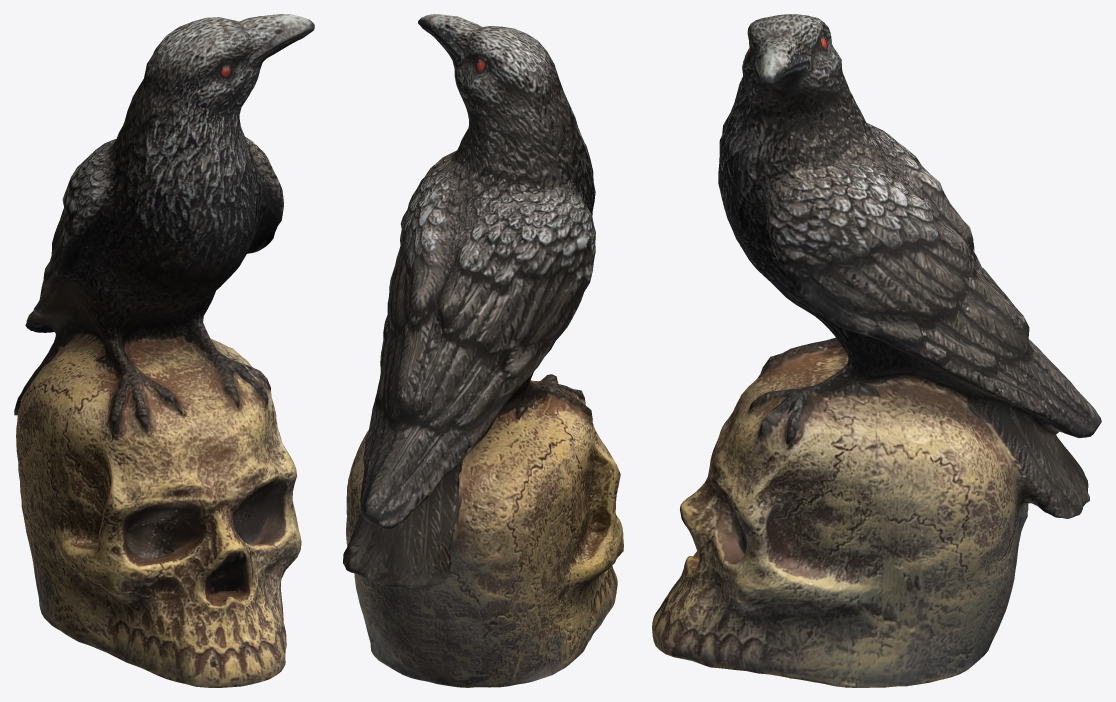
File: MessengerRaven.glb
3 renders of one model, left to right at view 1: azimuth 30°, elevation 25°; view 2: azimuth 150°, elevation 25°; view 3: azimuth 270°, elevation 25°, orthographic. The views are drawn at different scales.
Visible parts, largest first — view 1: geo1; view 2: geo1; view 3: geo1.
Boxes of the visible parts, x1,y1,x2,y2 form: geo1: (14,14,314,687); geo1: (343,14,623,687); geo1: (652,14,1101,687).
Size of the model in its own units: 0.000832 by 0.0022 by 0.00142.
Materials: 1 (1 with a texture image).
